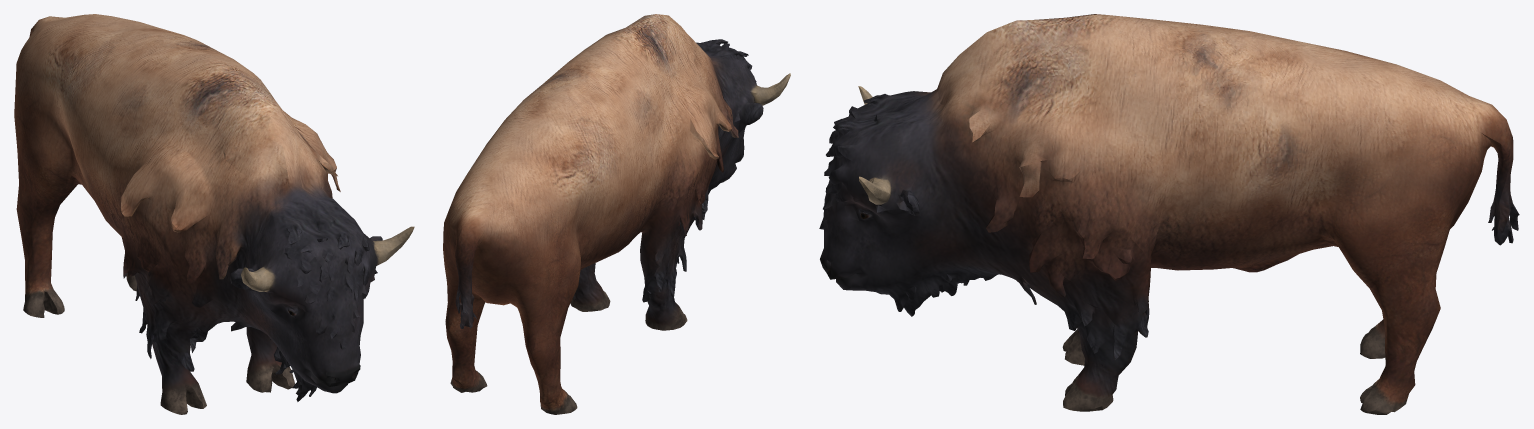
The model's file is bison.obj.
The picture shows the model from 3 angles, left to right: view 1: azimuth 30°, elevation 25°; view 2: azimuth 150°, elevation 25°; view 3: azimuth 270°, elevation 25°; orthographic projection. The views are drawn at different scales.
Parts seen in each view (by area): view 1: Bison; view 2: Bison; view 3: Bison.
Boxes of the visible parts, x1,y1,x2,y2 form: Bison: (14, 14, 414, 414); Bison: (443, 14, 790, 414); Bison: (819, 14, 1519, 414).
Size of the model in its own units: 5.15 by 8 by 14.
